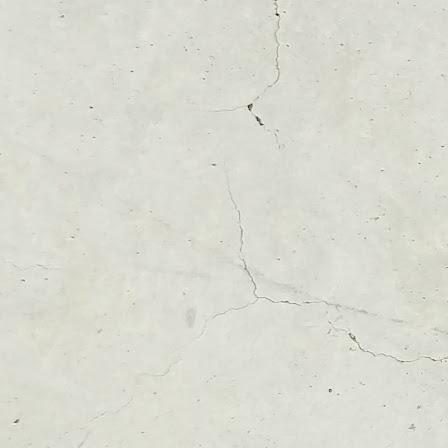crack: (145, 148, 304, 342), (201, 1, 286, 153), (38, 391, 140, 448), (342, 330, 448, 376), (0, 256, 66, 279), (131, 357, 186, 382), (301, 295, 344, 313)
